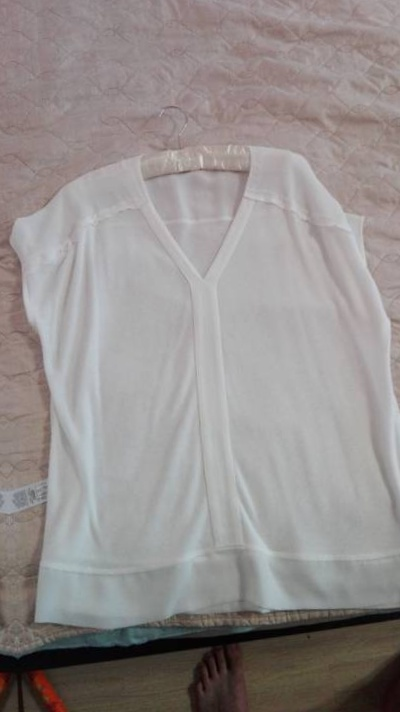Blouse: (0, 98, 400, 661), (0, 124, 4, 687)
